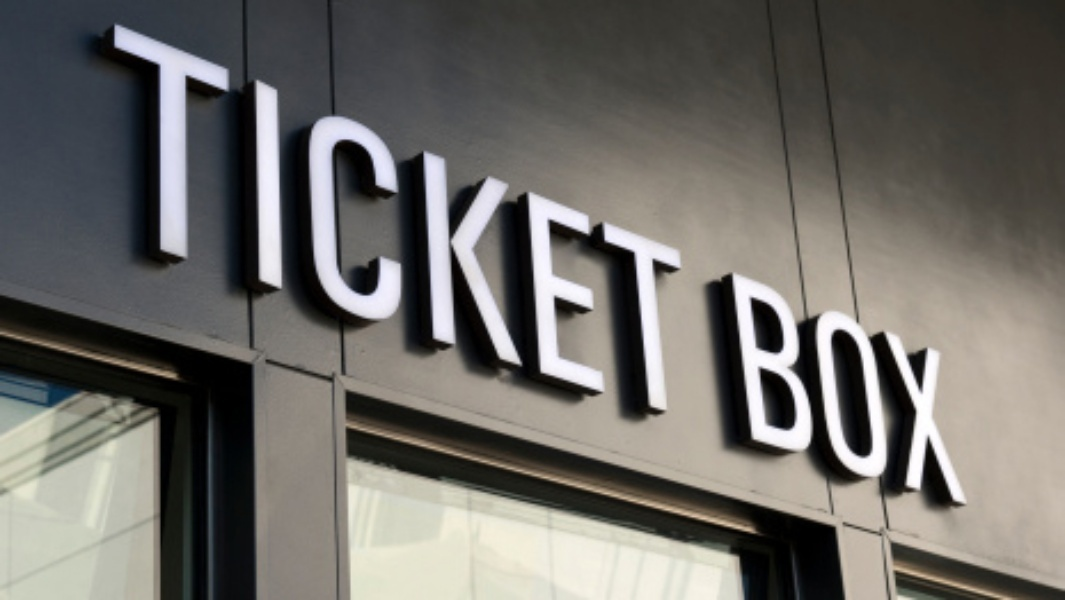text: (113, 21, 128, 422), (129, 21, 144, 422), (145, 21, 160, 422), (161, 21, 176, 422), (177, 21, 192, 422), (193, 21, 208, 422), (209, 21, 224, 422), (225, 21, 240, 422), (241, 21, 256, 422), (257, 21, 272, 422), (273, 21, 288, 422), (289, 21, 304, 422), (305, 21, 320, 422), (321, 21, 336, 422), (337, 21, 352, 422), (353, 21, 368, 422), (369, 21, 384, 422), (385, 21, 400, 422), (401, 21, 416, 422), (417, 21, 432, 422), (433, 21, 448, 422), (449, 21, 464, 422), (465, 21, 480, 422), (481, 21, 496, 422), (497, 21, 512, 422), (513, 21, 528, 422), (529, 21, 544, 422), (545, 21, 560, 422), (561, 21, 576, 422), (577, 21, 592, 422), (593, 21, 608, 422), (609, 21, 624, 422), (625, 21, 640, 422), (641, 21, 656, 422), (657, 21, 672, 422), (737, 268, 752, 507), (753, 268, 768, 507), (769, 268, 784, 507), (785, 268, 800, 507), (801, 268, 816, 507), (817, 268, 832, 507), (833, 268, 848, 507), (849, 268, 864, 507), (865, 268, 880, 507), (881, 268, 896, 507), (897, 268, 912, 507), (913, 268, 928, 507), (929, 268, 944, 507), (945, 268, 960, 507), (673, 21, 681, 422), (727, 268, 736, 507), (961, 268, 967, 507), (110, 21, 112, 422)
